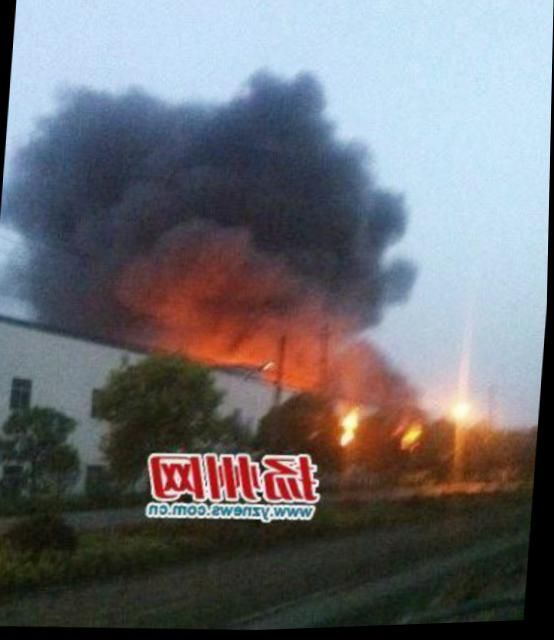fire: (191, 312, 283, 369), (291, 319, 333, 389), (396, 421, 427, 458), (342, 404, 362, 452)
